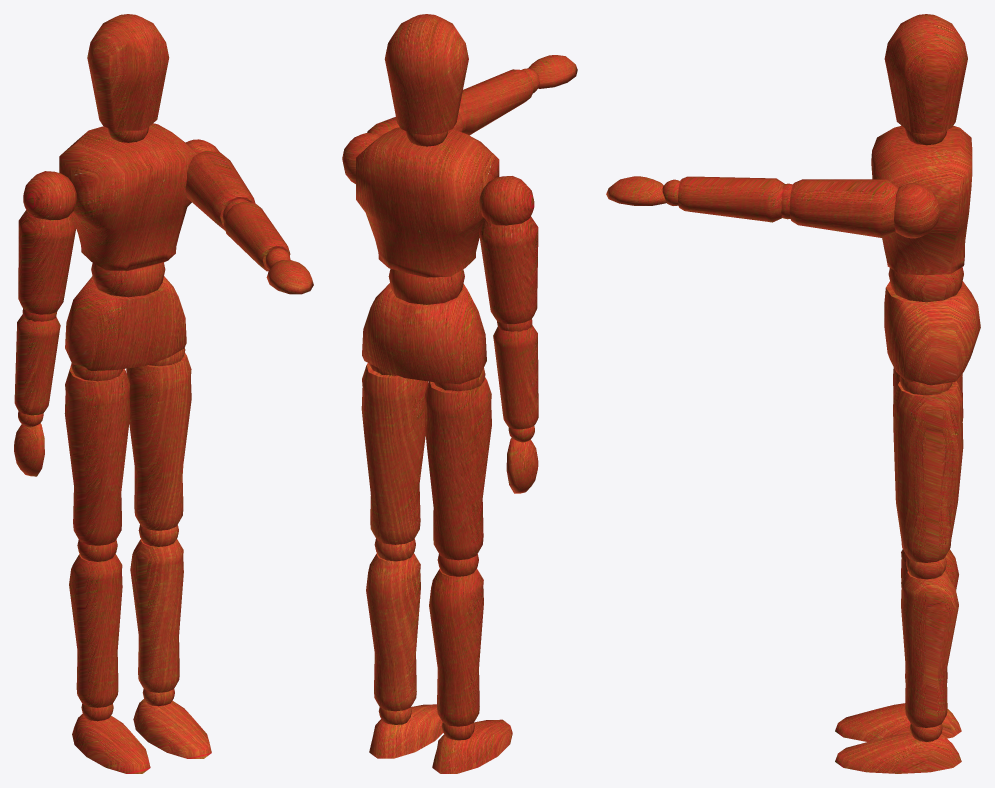
Rendered from dummy_obj_gun_pose.obj.
3 views of the same model, side by side, from view 1: azimuth 30°, elevation 25°; view 2: azimuth 150°, elevation 25°; view 3: azimuth 270°, elevation 25° (orthographic). The views are drawn at different scales.
Visible parts, largest first — view 1: dummy_hips3 dummy_belly dummy_torso 메시, dummy_hips3 dummy_rpelvis dummy_rupleg 메시, dummy_hips3 dummy_lpelvis dummy_lupleg 메시, dummy_hips3 메시, dummy_hips3 dummy_belly dummy_torso dummy_neck dummy_headq 메시, dummy_hips3 dummy_lpelvis dummy_lupleg dummy_lknee dummy_lleg 메시, dummy_hips3 dummy_rpelvis dummy_rupleg dummy_rknee dummy_rleg 메시, dummy_hips3 dummy_belly dummy_torso dummy_rshoulder dummy_rarm d, dummy_hips3 dummy_belly dummy_torso dummy_rshoulder dummy_rarm 메, dummy_hips3 dummy_belly dummy_torso dummy_lshoulder dummy_larm d, dummy_hips3 dummy_lpelvis dummy_lupleg dummy_lknee dummy_lleg du, dummy_hips3 dummy_rpelvis dummy_rupleg dummy_rknee dummy_rleg du (+6 smaller); view 2: dummy_hips3 dummy_belly dummy_torso 메시, dummy_hips3 dummy_rpelvis dummy_rupleg 메시, dummy_hips3 dummy_lpelvis dummy_lupleg 메시, dummy_hips3 메시, dummy_hips3 dummy_belly dummy_torso dummy_neck dummy_headq 메시, dummy_hips3 dummy_lpelvis dummy_lupleg dummy_lknee dummy_lleg 메시, dummy_hips3 dummy_rpelvis dummy_rupleg dummy_rknee dummy_rleg 메시, dummy_hips3 dummy_belly dummy_torso dummy_rshoulder dummy_rarm d, dummy_hips3 dummy_belly dummy_torso dummy_rshoulder dummy_rarm 메, dummy_hips3 dummy_belly dummy_torso dummy_lshoulder dummy_larm d, dummy_hips3 dummy_rpelvis dummy_rupleg dummy_rknee dummy_rleg du, dummy_hips3 dummy_lpelvis dummy_lupleg dummy_lknee dummy_lleg du (+8 smaller); view 3: dummy_hips3 dummy_lpelvis dummy_lupleg 메시, dummy_hips3 dummy_belly dummy_torso 메시, dummy_hips3 dummy_belly dummy_torso dummy_neck dummy_headq 메시, dummy_hips3 메시, dummy_hips3 dummy_lpelvis dummy_lupleg dummy_lknee dummy_lleg 메시, dummy_hips3 dummy_belly dummy_torso dummy_lshoulder dummy_larm d, dummy_hips3 dummy_belly dummy_torso dummy_lshoulder dummy_larm 메, dummy_hips3 dummy_lpelvis dummy_lupleg dummy_lknee dummy_lleg du, dummy_hips3 dummy_rpelvis dummy_rupleg dummy_rknee dummy_rleg du, dummy_hips3 dummy_belly dummy_torso dummy_lshoulder 메시, dummy_hips3 dummy_belly 메시, dummy_hips3 dummy_lpelvis dummy_lupleg dummy_lknee 메시.
Part boxes in pixels (<box>): dummy_hips3 dummy_belly dummy_torso 메시: <box>59,123,197,270</box>; dummy_hips3 dummy_rpelvis dummy_rupleg 메시: <box>64,365,130,545</box>; dummy_hips3 dummy_lpelvis dummy_lupleg 메시: <box>126,352,191,530</box>; dummy_hips3 메시: <box>65,276,186,370</box>; dummy_hips3 dummy_belly dummy_torso dummy_neck dummy_headq 메시: <box>87,14,169,130</box>; dummy_hips3 dummy_lpelvis dummy_lupleg dummy_lknee dummy_lleg 메시: <box>130,539,183,692</box>; dummy_hips3 dummy_rpelvis dummy_rupleg dummy_rknee dummy_rleg 메시: <box>69,554,122,707</box>; dummy_hips3 dummy_belly dummy_torso dummy_rshoulder dummy_rarm d: <box>14,308,60,476</box>; dummy_hips3 dummy_belly dummy_torso dummy_rshoulder dummy_rarm 메: <box>18,210,76,314</box>; dummy_hips3 dummy_belly dummy_torso dummy_lshoulder dummy_larm d: <box>222,198,313,294</box>; dummy_hips3 dummy_lpelvis dummy_lupleg dummy_lknee dummy_lleg du: <box>133,689,211,758</box>; dummy_hips3 dummy_rpelvis dummy_rupleg dummy_rknee dummy_rleg du: <box>72,704,150,773</box>; dummy_hips3 dummy_belly dummy_torso 메시: <box>356,127,499,277</box>; dummy_hips3 dummy_rpelvis dummy_rupleg 메시: <box>424,377,491,560</box>; dummy_hips3 dummy_lpelvis dummy_lupleg 메시: <box>361,363,428,544</box>; dummy_hips3 메시: <box>362,283,486,384</box>; dummy_hips3 dummy_belly dummy_torso dummy_neck dummy_headq 메시: <box>384,14,468,135</box>; dummy_hips3 dummy_lpelvis dummy_lupleg dummy_lknee dummy_lleg 메시: <box>366,553,420,711</box>; dummy_hips3 dummy_rpelvis dummy_rupleg dummy_rknee dummy_rleg 메시: <box>429,568,483,726</box>; dummy_hips3 dummy_belly dummy_torso dummy_rshoulder dummy_rarm d: <box>493,319,538,493</box>; dummy_hips3 dummy_belly dummy_torso dummy_rshoulder dummy_rarm 메: <box>478,216,538,324</box>; dummy_hips3 dummy_belly dummy_torso dummy_lshoulder dummy_larm d: <box>458,55,577,135</box>; dummy_hips3 dummy_rpelvis dummy_rupleg dummy_rknee dummy_rleg du: <box>432,719,512,773</box>; dummy_hips3 dummy_lpelvis dummy_lupleg dummy_lknee dummy_lleg du: <box>369,704,442,758</box>; dummy_hips3 dummy_lpelvis dummy_lupleg 메시: <box>893,381,963,562</box>; dummy_hips3 dummy_belly dummy_torso 메시: <box>871,125,972,275</box>; dummy_hips3 dummy_belly dummy_torso dummy_neck dummy_headq 메시: <box>884,14,967,134</box>; dummy_hips3 메시: <box>884,281,980,385</box>; dummy_hips3 dummy_lpelvis dummy_lupleg dummy_lknee dummy_lleg 메시: <box>901,571,958,727</box>; dummy_hips3 dummy_belly dummy_torso dummy_lshoulder dummy_larm d: <box>606,176,792,222</box>; dummy_hips3 dummy_belly dummy_torso dummy_lshoulder dummy_larm 메: <box>789,179,898,238</box>; dummy_hips3 dummy_lpelvis dummy_lupleg dummy_lknee dummy_lleg du: <box>835,724,961,773</box>; dummy_hips3 dummy_rpelvis dummy_rupleg dummy_rknee dummy_rleg du: <box>835,703,961,741</box>; dummy_hips3 dummy_belly dummy_torso dummy_lshoulder 메시: <box>894,183,939,238</box>; dummy_hips3 dummy_belly 메시: <box>888,267,963,302</box>; dummy_hips3 dummy_lpelvis dummy_lupleg dummy_lknee 메시: <box>905,556,946,579</box>.
Bounding box in the file's own units: 50.3 × 177 × 82.48.
29 materials, 29 textured.
